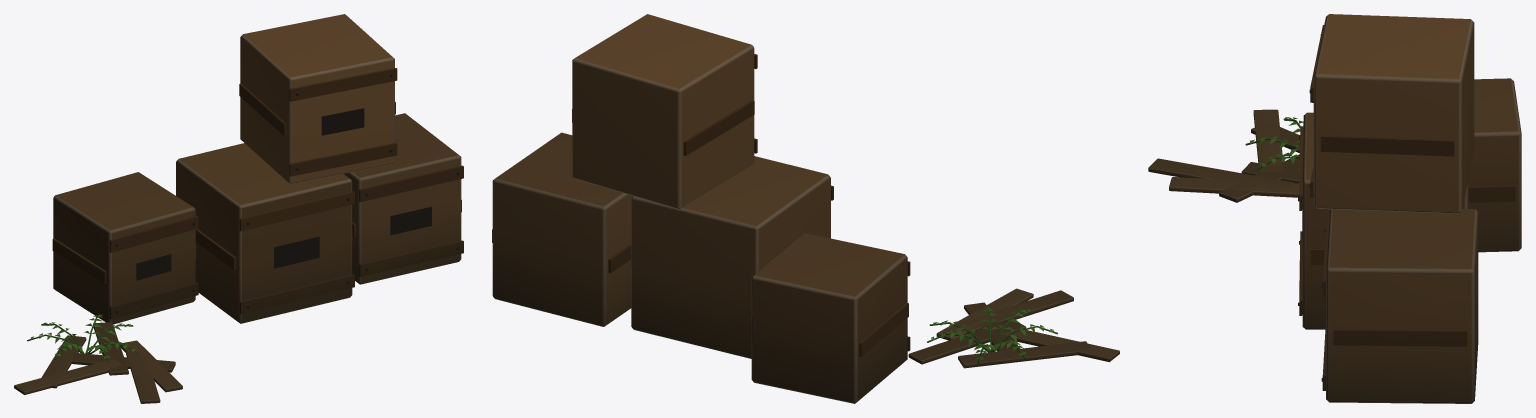
The model's file is crate_stack.glb.
3 renders of one model, left to right at view 1: azimuth 30°, elevation 25°; view 2: azimuth 150°, elevation 25°; view 3: azimuth 270°, elevation 25°, orthographic. The views are drawn at different scales.
Parts seen in each view (by area): view 1: Mesh; view 2: Mesh; view 3: Mesh.
Boxes of the visible parts, box(x1,y1,x2,y2) form: Mesh: box(14, 14, 463, 403); Mesh: box(492, 14, 1119, 403); Mesh: box(1148, 14, 1521, 403).
Size of the model in its own units: 4.16 by 1.9 by 2.26.
